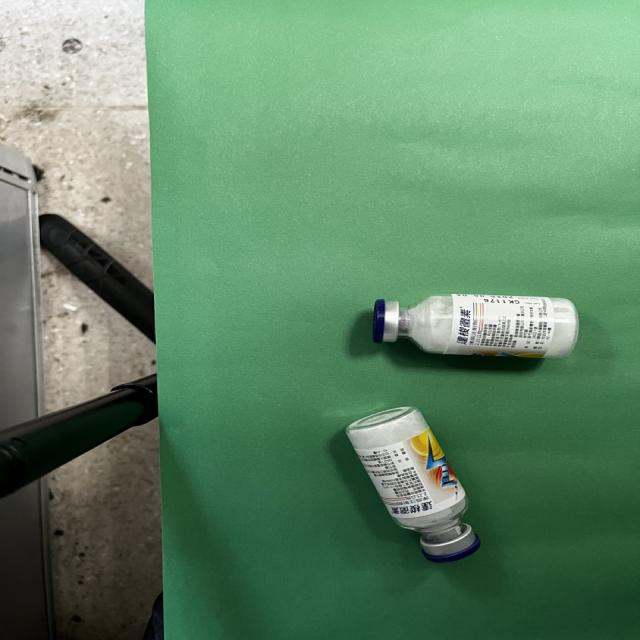Vials: (346, 406, 479, 562), (373, 294, 579, 358)
